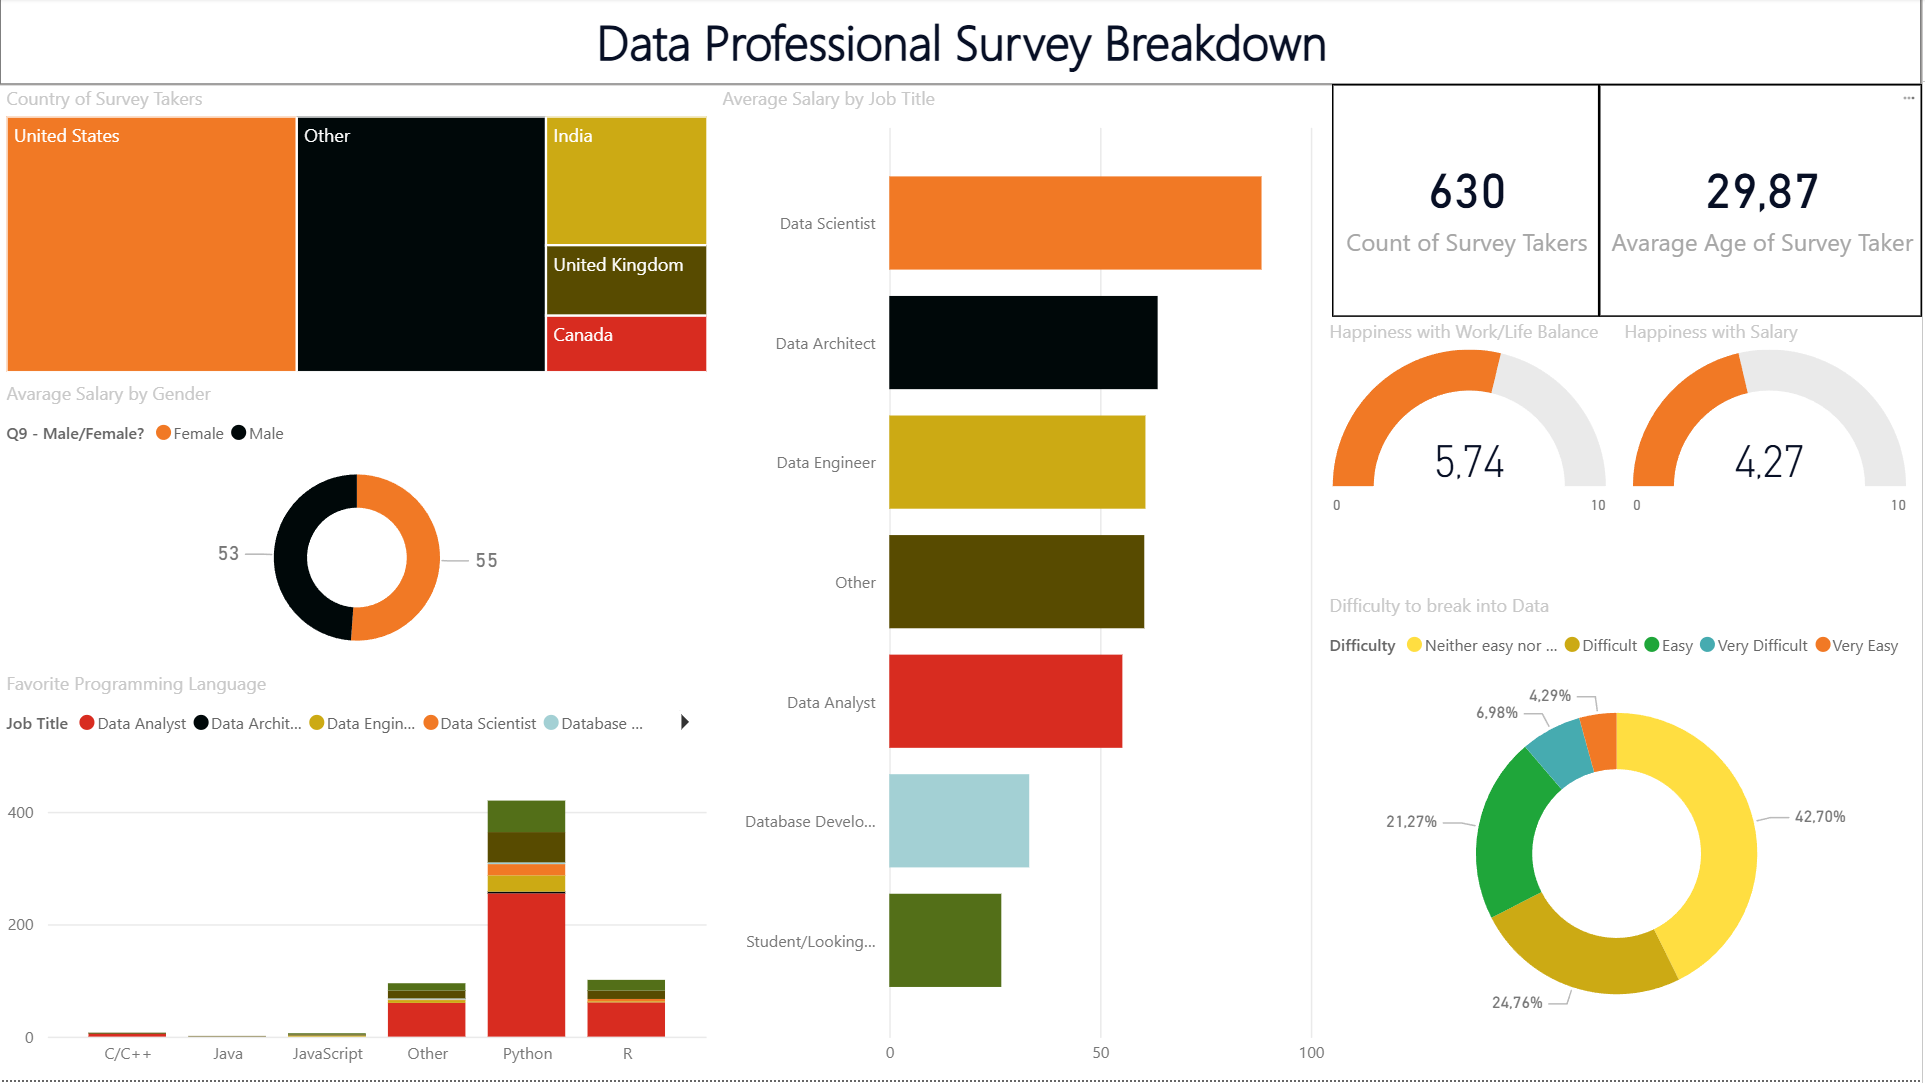

This screenshot's page, from the dashboard's own definition file:
{"tool":"powerbi","page":{"name":"Page 1","canvas":[1280,720],"ordinal":0},"visuals":[{"type":"textbox","box":[0,0,1280,58.2],"z":0},{"type":"card","fields":{"Values":["Count(Data Professional Survey.Unique ID)"]},"box":[887,57.5,177.7,155.5],"z":1000},{"type":"card","fields":{"Values":["Avg(Data Professional Survey.Q10 - Current Age)"]},"box":[1064.8,57.5,215.2,155.5],"z":2000},{"type":"barChart","title":"Average Salary by Job Title","fields":{"Category":["Data Professional Survey.Q1 - Which Title Best Fits your Current Role?.1"],"Y":["Avg(Data Professional Survey.Avg Salary)"],"Series":["Data Professional Survey.Q1 - Which Title Best Fits your Current Role?.1"]},"box":[476.5,58.2,410.6,661.8],"z":3000},{"type":"columnChart","title":"Favorite Programming Language","fields":{"Category":["Data Professional Survey.Q5 - Favorite Programming Language.1"],"Y":["CountNonNull(Data Professional Survey.Unique ID)"],"Series":["Data Professional Survey.Q1 - Which Title Best Fits your Current Role?.1"]},"box":[0,447.3,476.5,272.7],"z":4000},{"type":"treemap","title":"Country of Survey Takers","fields":{"Group":["Data Professional Survey.Q11 - Which Country do you live in?.1"],"Values":["CountNonNull(Data Professional Survey.Q11 - Which Country do you live in?.1)"]},"box":[0,58.2,476.5,196.1],"z":5000},{"type":"gauge","title":"Happiness with Work/Life Balance","fields":{"Y":["Avg(Data Professional Survey.Q6 - How Happy are you in your Current Position with the following? (Work/Life Balance))"],"MinValue":["Min(Data Professional Survey.Q6 - How Happy are you in your Current Position with the following? (Work/Life Balance))"],"MaxValue":["Max(Data Professional Survey.Q6 - How Happy are you in your Current Position with the following? (Work/Life Balance))1"]},"box":[880.9,213,196.1,137.9],"z":6000},{"type":"gauge","title":"Happiness with Salary","fields":{"Y":["Avg(Data Professional Survey.Q6 - How Happy are you in your Current Position with the following? (Salary))"],"MinValue":["Min(Data Professional Survey.Q6 - How Happy are you in your Current Position with the following? (Salary))"],"MaxValue":["Max(Data Professional Survey.Q6 - How Happy are you in your Current Position with the following? (Salary))1"]},"box":[1077,213,203,137.9],"z":7000},{"type":"donutChart","title":"Avarage Salary by Gender","fields":{"Category":["Data Professional Survey.Q9 - Male/Female?"],"Y":["Avg(Data Professional Survey.Avg Salary)"]},"box":[0,254.3,476.5,193],"z":8000},{"type":"donutChart","title":"Difficulty to break into Data","fields":{"Category":["Data Professional Survey.Q7 - How difficult was it for you to break into Data?"],"Y":["CountNonNull(Data Professional Survey.Q7 - How difficult was it for you to break into Data?)"]},"box":[880.9,395.3,392.2,304.9],"z":8001}]}

Visuals, with their boxes in screenshot pixels (x1, y1, x2, y2), scaled from the page's 1280x720 canvas onto the 1925x1083 screenshot:
textbox: x1=0 y1=0 x2=1924 y2=88
card - Count(Data Professional Survey.Unique ID): x1=1334 y1=86 x2=1601 y2=320
card - Avg(Data Professional Survey.Q10 - Current Age): x1=1601 y1=86 x2=1924 y2=320
"Average Salary by Job Title" barChart: x1=717 y1=88 x2=1334 y2=1082
"Favorite Programming Language" columnChart: x1=0 y1=673 x2=717 y2=1082
"Country of Survey Takers" treemap: x1=0 y1=88 x2=717 y2=383
"Happiness with Work/Life Balance" gauge: x1=1325 y1=320 x2=1620 y2=528
"Happiness with Salary" gauge: x1=1620 y1=320 x2=1924 y2=528
"Avarage Salary by Gender" donutChart: x1=0 y1=383 x2=717 y2=673
"Difficulty to break into Data" donutChart: x1=1325 y1=595 x2=1915 y2=1053
